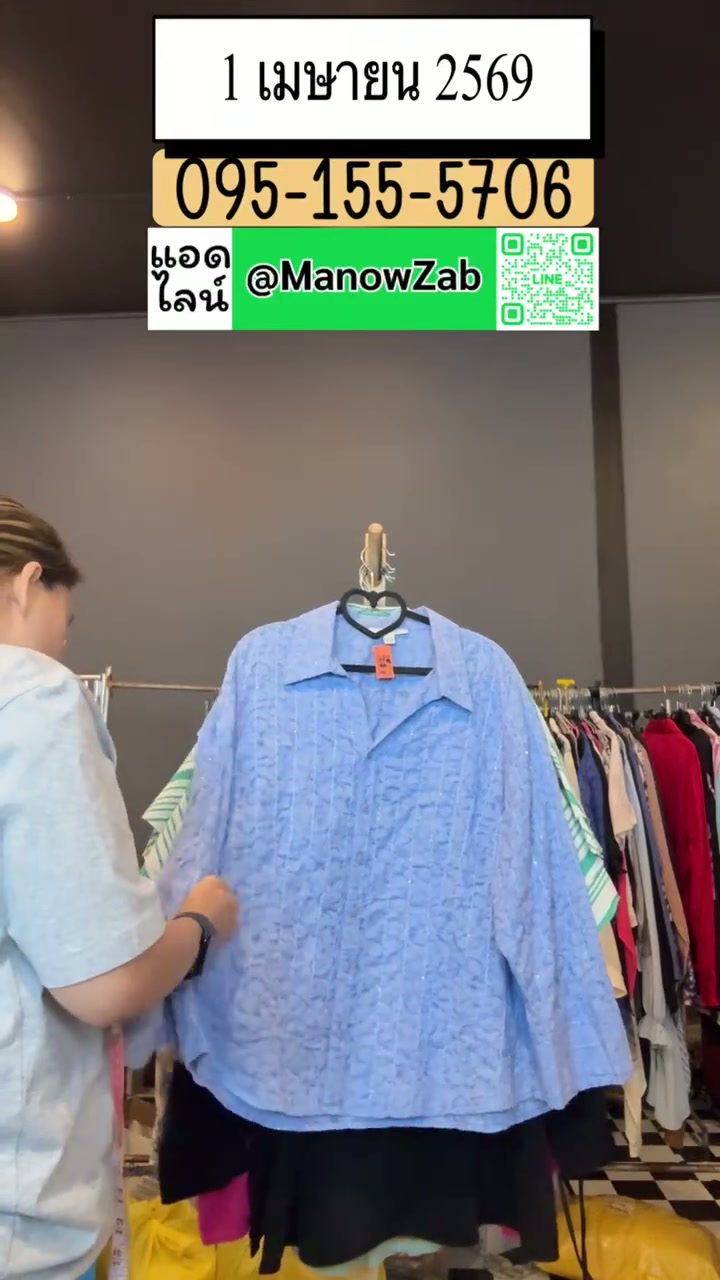display_shirt: (159, 602, 630, 1133)
